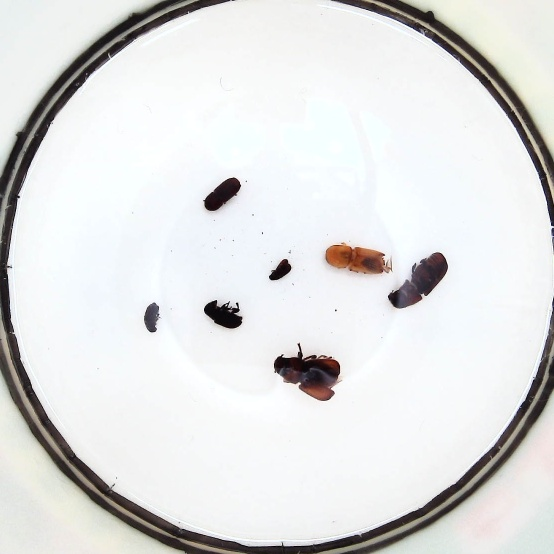acuminatus: (143, 303, 161, 332)
armandi: (204, 177, 240, 210), (204, 299, 243, 329)
boerner: (326, 244, 385, 275)
coleoptera: (269, 259, 291, 280)
leconte: (388, 253, 447, 307), (273, 354, 340, 400)
